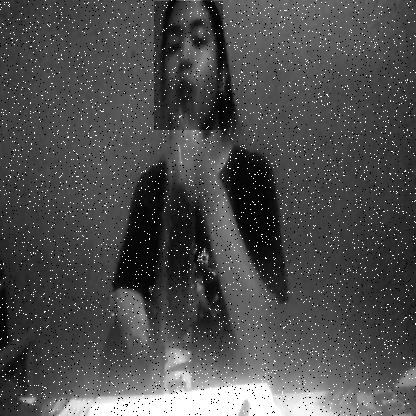Distracted: (154, 1, 223, 130)
